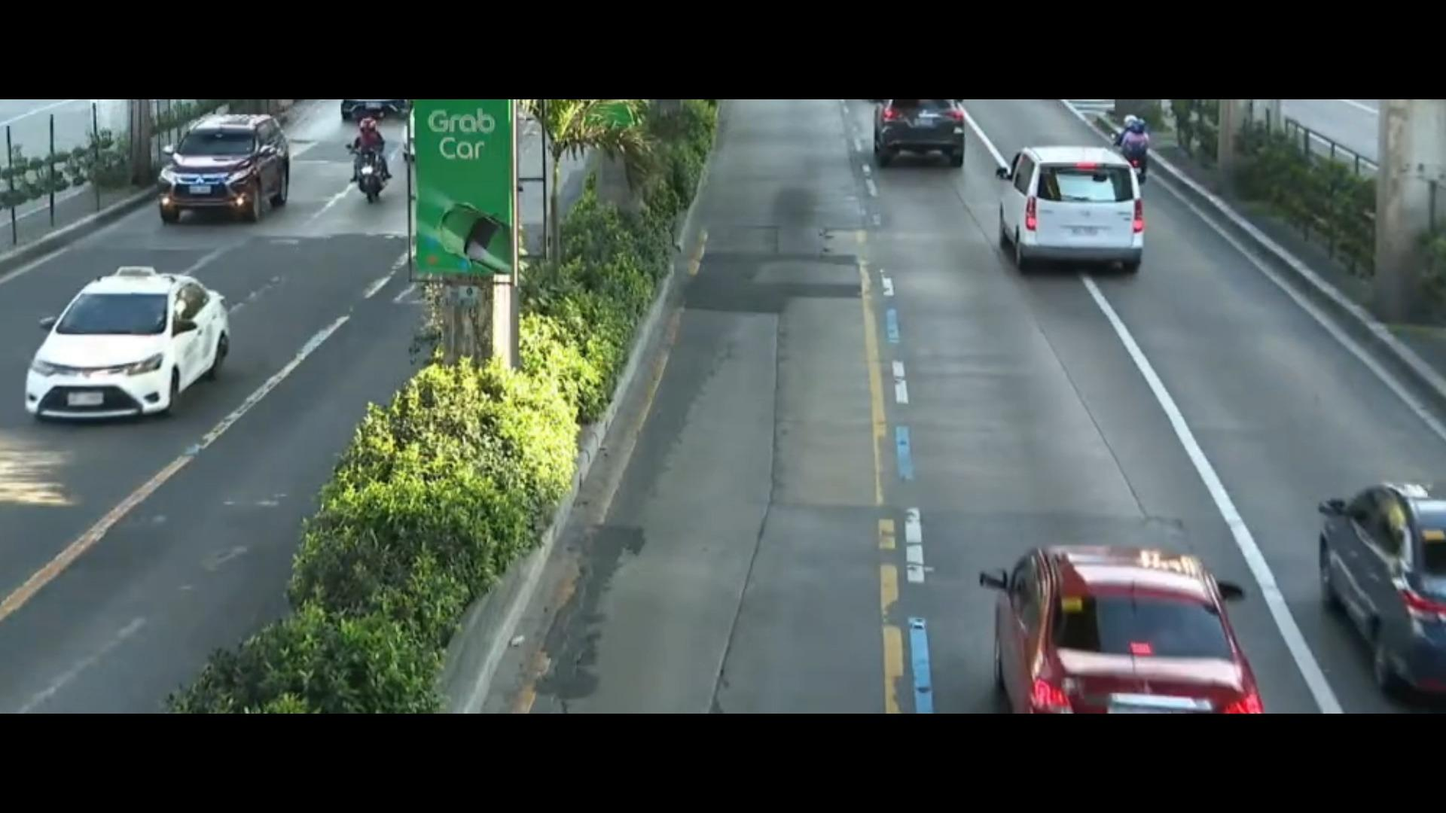Motorcycle: (330, 113, 402, 214), (1114, 111, 1178, 188)
SUV: (119, 113, 307, 254), (857, 93, 1005, 189)
Sedan: (959, 500, 1277, 717), (0, 274, 252, 440), (1303, 445, 1446, 703)
Van: (982, 136, 1154, 296)
